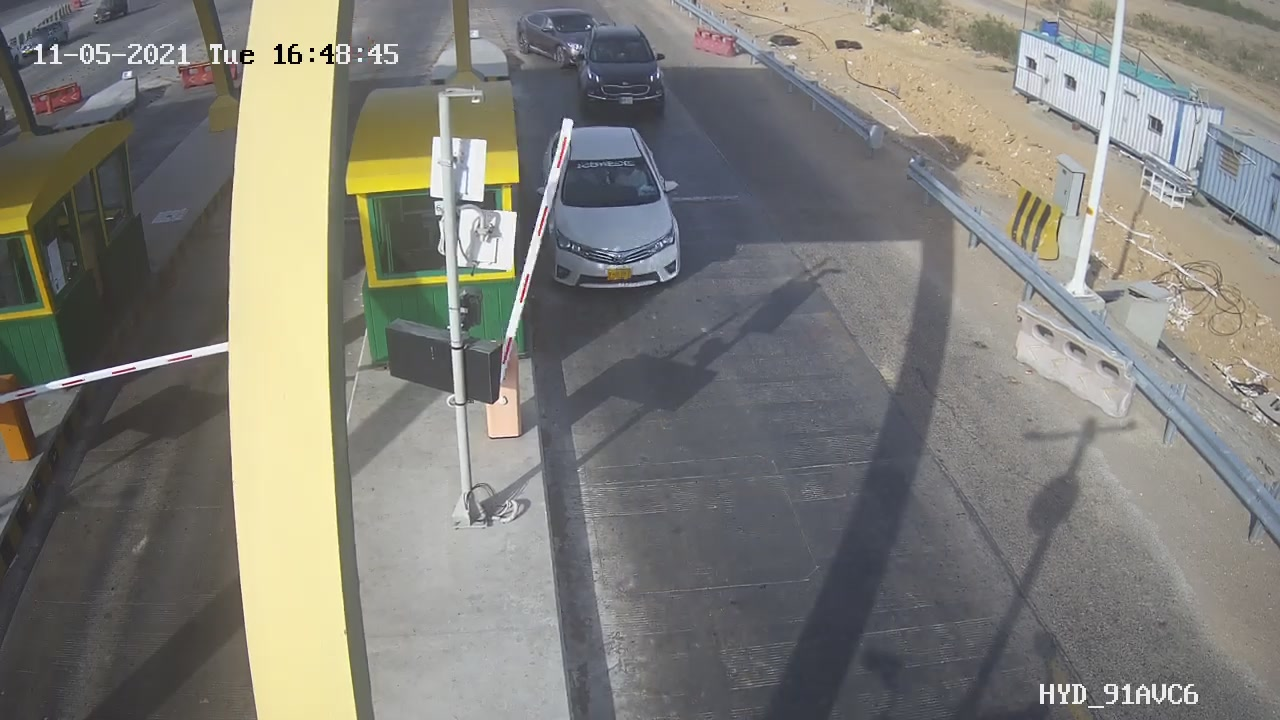F1: (521, 113, 704, 312), (561, 11, 681, 133)
